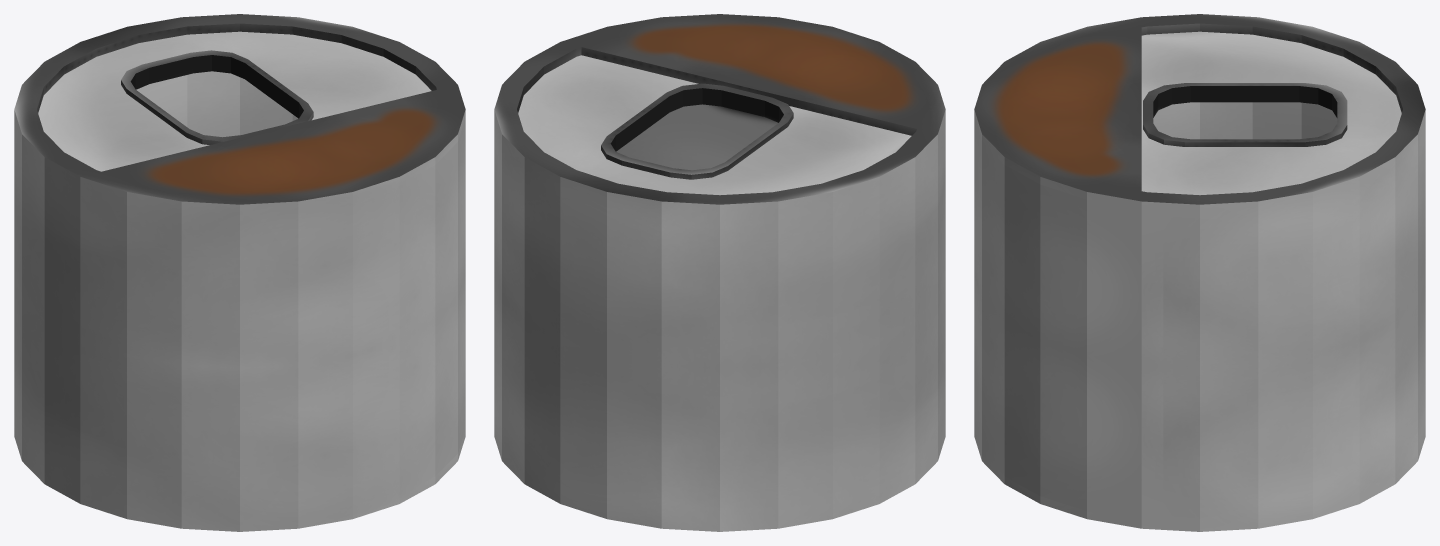
File: inlineAirlock-hull.dae
The picture shows the model from 3 angles, left to right: view 1: azimuth 30°, elevation 25°; view 2: azimuth 150°, elevation 25°; view 3: azimuth 270°, elevation 25°; orthographic projection.
Visible parts, largest first — view 1: Hull; view 2: Hull; view 3: Hull.
Boxes of the visible parts, x1,y1,x2,y2 form: Hull: (14, 14, 465, 531); Hull: (494, 14, 945, 531); Hull: (974, 14, 1425, 531).
Bounding box in the file's own units: 2.5 × 2.5 × 2.
1 material, 1 textured.
